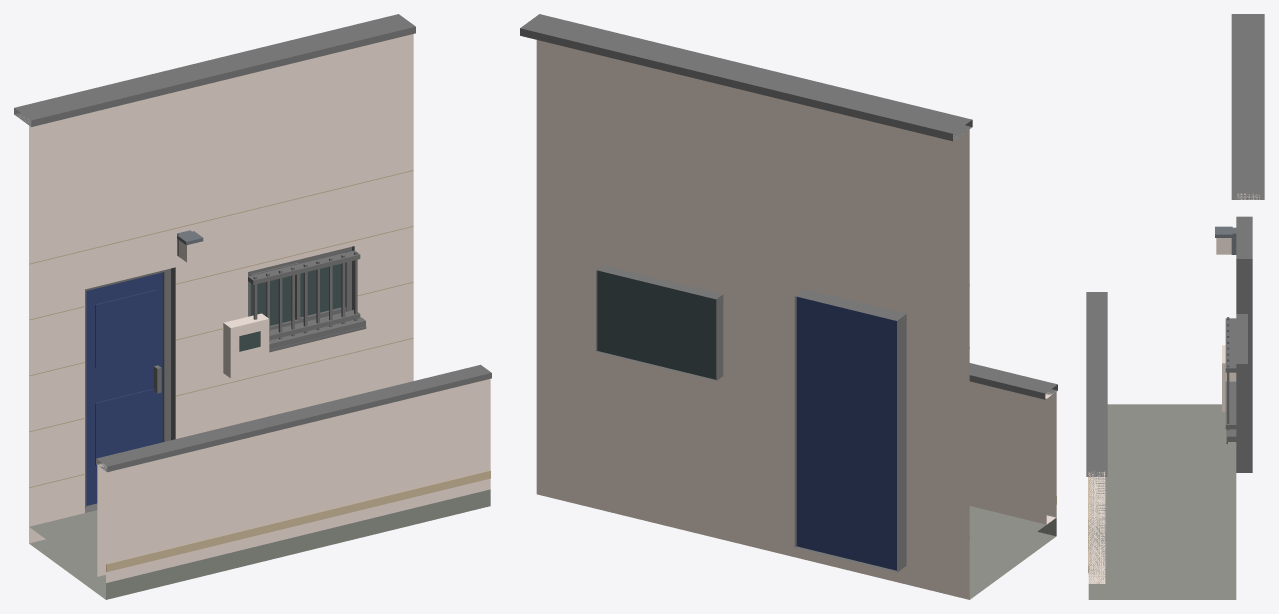
Rendered from top-w3_close.fbx.
3 views of the same model, side by side, from view 1: azimuth 30°, elevation 25°; view 2: azimuth 150°, elevation 25°; view 3: azimuth 270°, elevation 25° (orthographic). The views are drawn at different scales.
Visible parts, largest first — view 1: a2001/200/top-w3_close; view 2: a2001/200/top-w3_close; view 3: a2001/200/top-w3_close.
Part boxes in pixels (left/top/right/bottom): a2001/200/top-w3_close: left=14, top=14, right=491, bottom=599; a2001/200/top-w3_close: left=520, top=14, right=1057, bottom=599; a2001/200/top-w3_close: left=1086, top=14, right=1264, bottom=599.
Bounding box in the file's own units: 3.6 × 3.8 × 1.51.
